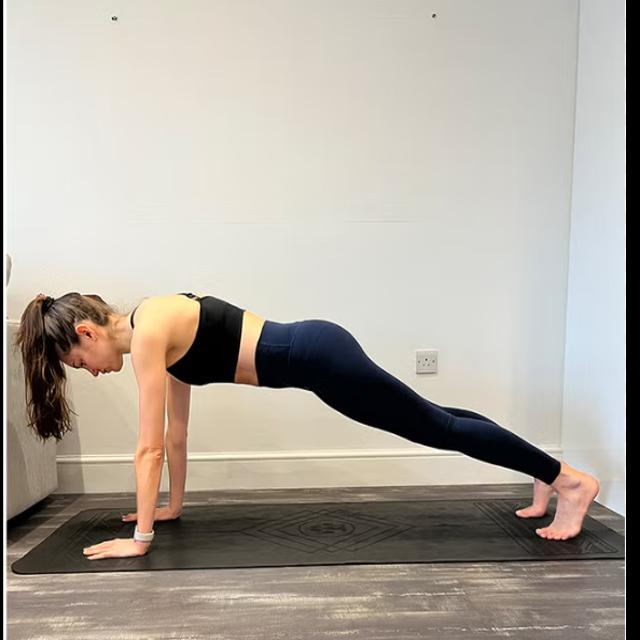Plank_Pose: (35, 285, 612, 563)
